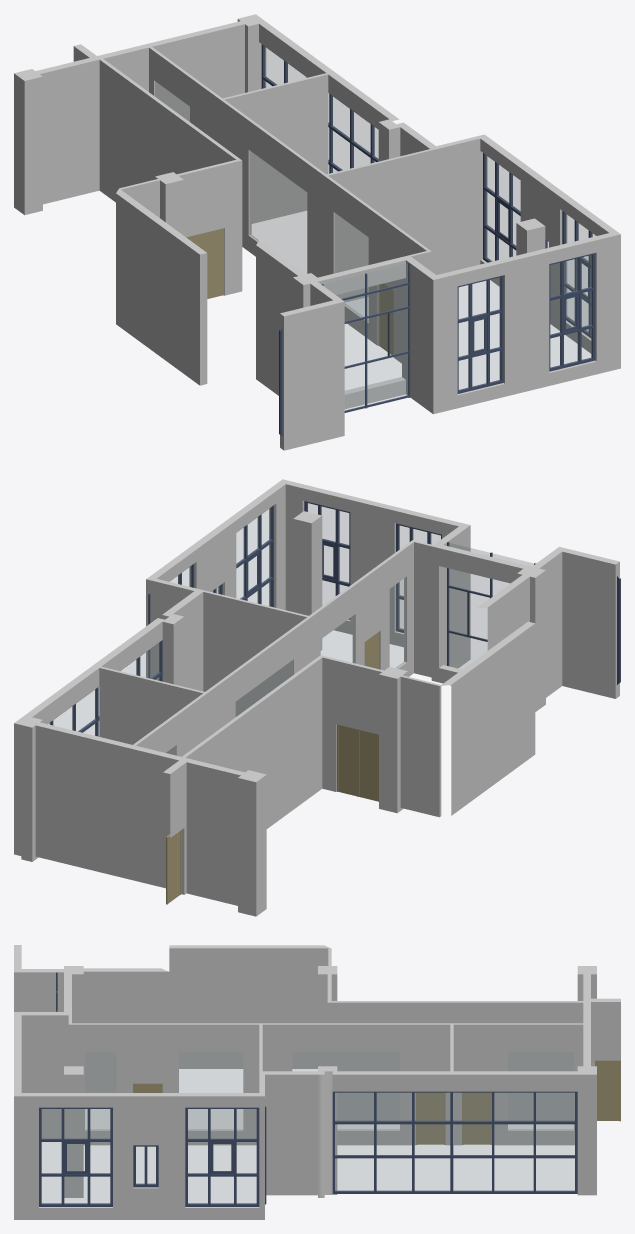
File: Other.glb
The picture shows the model from 3 angles, top to bottom: view 1: azimuth 30°, elevation 25°; view 2: azimuth 150°, elevation 25°; view 3: azimuth 270°, elevation 25°; orthographic projection. The views are drawn at different scales.
Parts seen in each view (by area): view 1: OTHER; view 2: OTHER; view 3: OTHER.
Boxes of the visible parts, box(x1,y1,x2,y2) form: OTHER: box(14, 14, 620, 450); OTHER: box(14, 479, 620, 916); OTHER: box(14, 945, 620, 1219).
Size of the model in its own units: 11.11 by 4.2 by 18.7.
